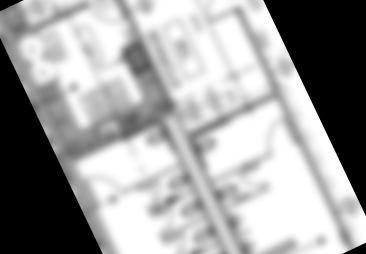door: (258, 115, 299, 158), (82, 165, 123, 208), (183, 0, 240, 26), (136, 178, 169, 210), (150, 205, 182, 237), (238, 166, 266, 194), (162, 231, 194, 254)
double door: (84, 0, 130, 35)
